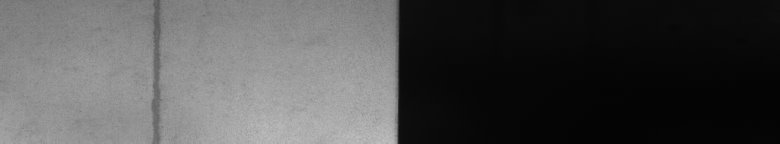hd: (148, 4, 165, 136)
